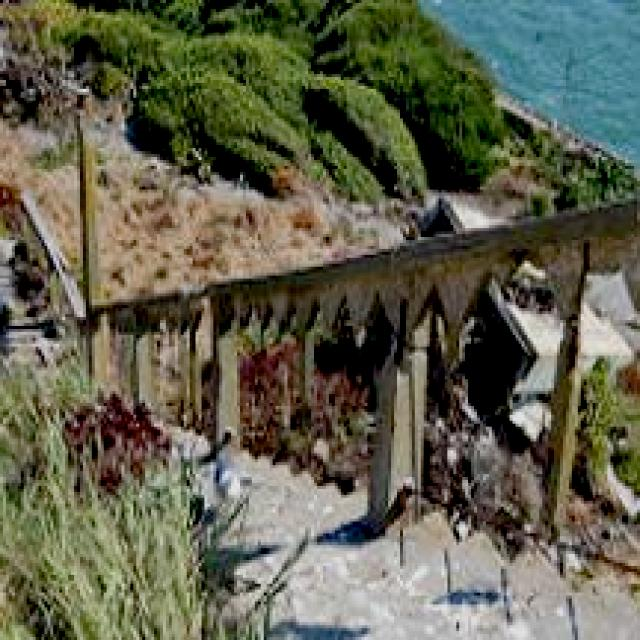downstair: (241, 454, 502, 640)
